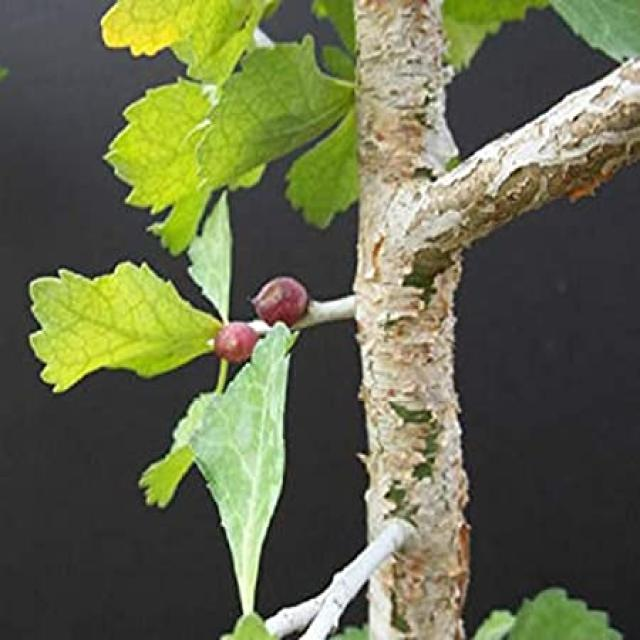Gugal: (104, 21, 584, 548)
